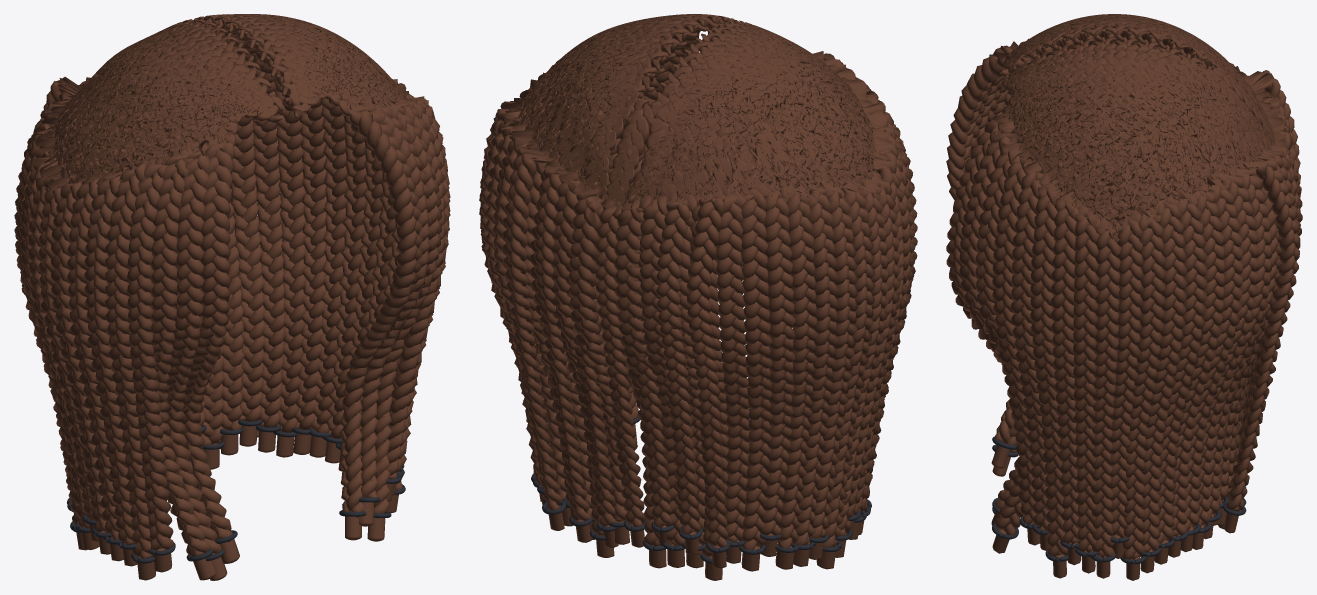
The model's file is Feminine-box-braids-headband251-hair.glb.
The picture shows the model from 3 angles, left to right: view 1: azimuth 30°, elevation 25°; view 2: azimuth 150°, elevation 25°; view 3: azimuth 270°, elevation 25°; orthographic projection. The views are drawn at different scales.
Parts seen in each view (by area): view 1: 226 hair / Hair / chestnut226.002, 226 hair / Hair / ties226.002; view 2: 226 hair / Hair / chestnut226.002, 226 hair / Hair / ties226.002; view 3: 226 hair / Hair / chestnut226.002, 226 hair / Hair / ties226.002.
Boxes of the visible parts, box(x1,y1,x2,y2) form: 226 hair / Hair / chestnut226.002: box(14, 14, 450, 580); 226 hair / Hair / ties226.002: box(67, 419, 405, 563); 226 hair / Hair / chestnut226.002: box(479, 14, 917, 580); 226 hair / Hair / ties226.002: box(531, 417, 871, 563); 226 hair / Hair / chestnut226.002: box(946, 14, 1302, 580); 226 hair / Hair / ties226.002: box(992, 436, 1246, 564).
Bounding box in the file's own units: 1.07 × 1.3 × 0.8719.
